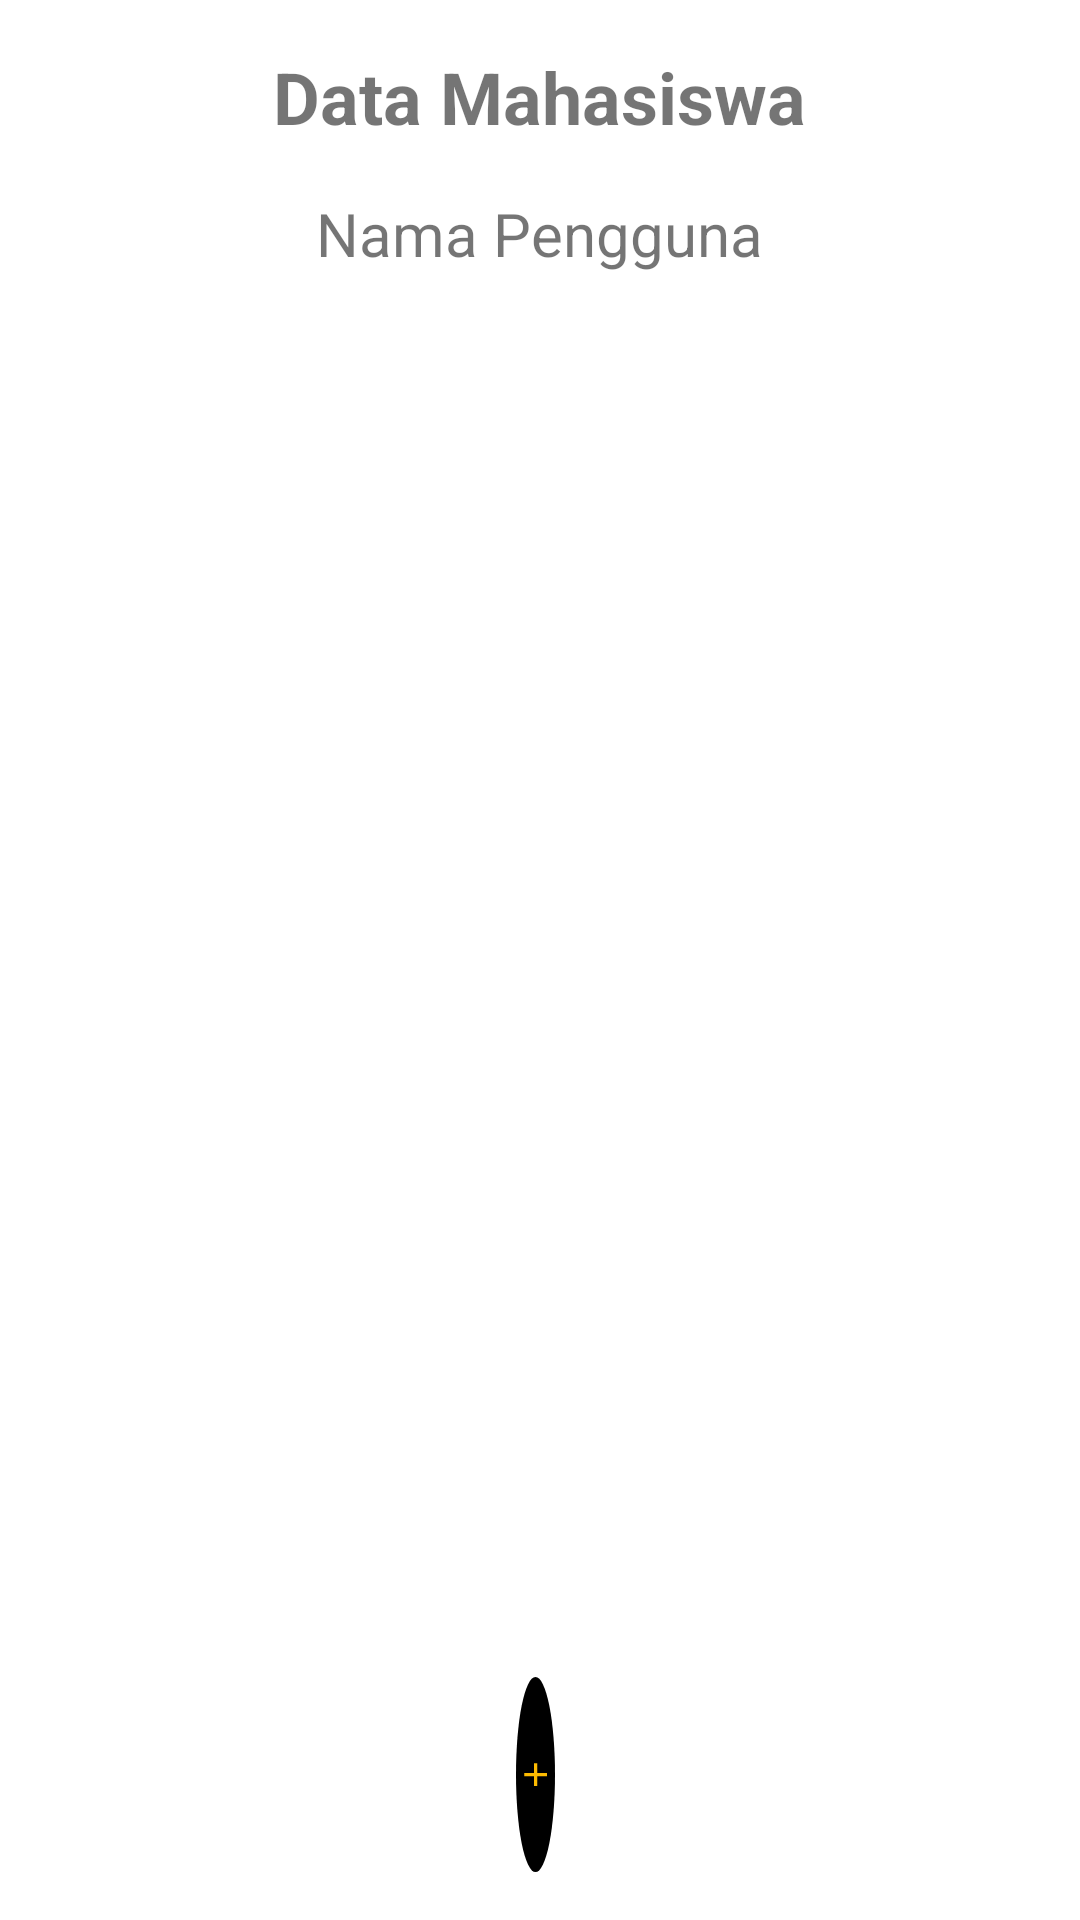

Where icons sit on this 1080px x 1920px app screen, as box(x1, y1, x2, y2):
add: box(516, 1677, 555, 1872)
